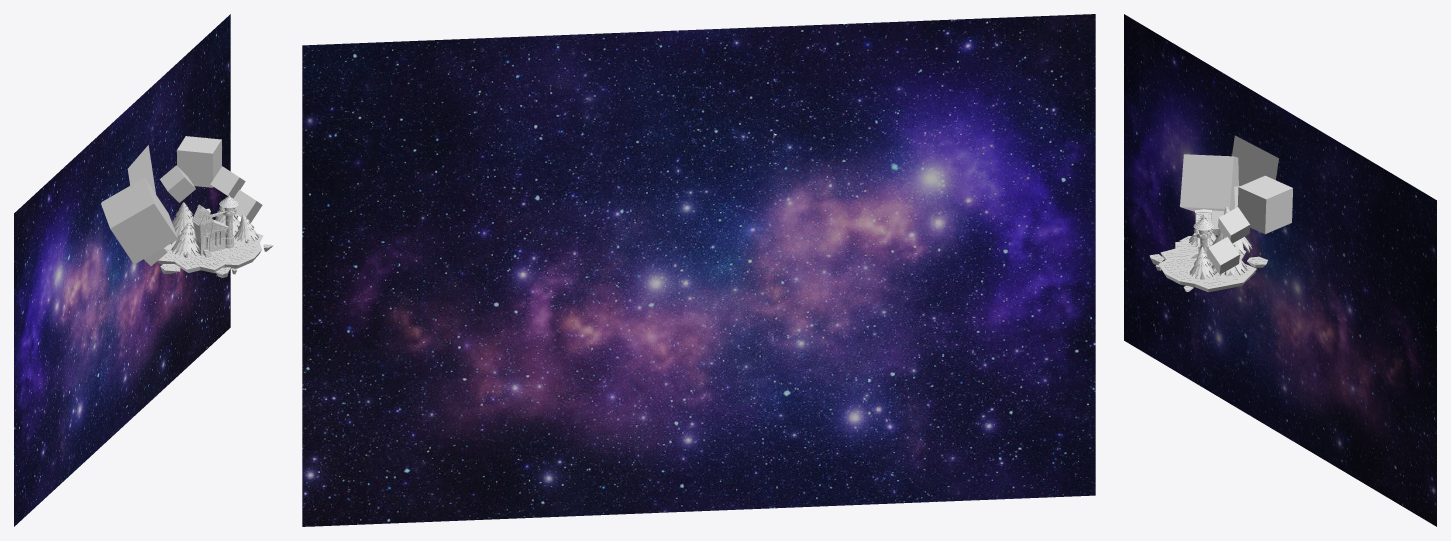
File: Halloween_Castle.fbx
3 renders of one model, left to right at view 1: azimuth 30°, elevation 25°; view 2: azimuth 150°, elevation 25°; view 3: azimuth 270°, elevation 25°, orthographic. The views are drawn at different scales.
Visible parts, largest first — view 1: stars.001, Куб.279, Куб.281, Основание, Куб.278, Дом, moon.001, Куб.276, Куб.280, Листва елки1, Листва елки2, Листва елки3; view 2: stars.001; view 3: stars.001, Куб.279, Куб.281, Основание, moon.001, Куб.280, Куб.276, Листва елки3.
Boxes of the visible parts, x1,y1,x2,y2 form: stars.001: (14, 14, 230, 526); Куб.279: (101, 177, 177, 264); Куб.281: (176, 136, 221, 187); Основание: (157, 231, 273, 277); Куб.278: (159, 165, 195, 202); Дом: (193, 212, 227, 254); moon.001: (127, 145, 155, 193); Куб.276: (210, 166, 245, 198); Куб.280: (233, 190, 262, 222); Листва елки1: (171, 221, 200, 255); Листва елки2: (171, 202, 195, 243); Листва елки3: (234, 214, 258, 242); stars.001: (302, 14, 1095, 526); stars.001: (1124, 14, 1436, 526); Куб.279: (1180, 154, 1238, 211); Куб.281: (1237, 175, 1292, 234); Основание: (1149, 236, 1267, 292); moon.001: (1232, 135, 1278, 185); Куб.280: (1207, 237, 1239, 274); Куб.276: (1218, 207, 1250, 243); Листва елки3: (1189, 247, 1215, 278).
Size of the model in its own units: 8725 by 7132 by 6190.
5 materials, 1 textured.
